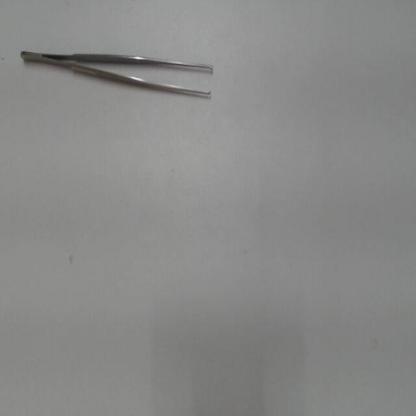Gillies Toothed Dissector: (17, 42, 229, 112)
